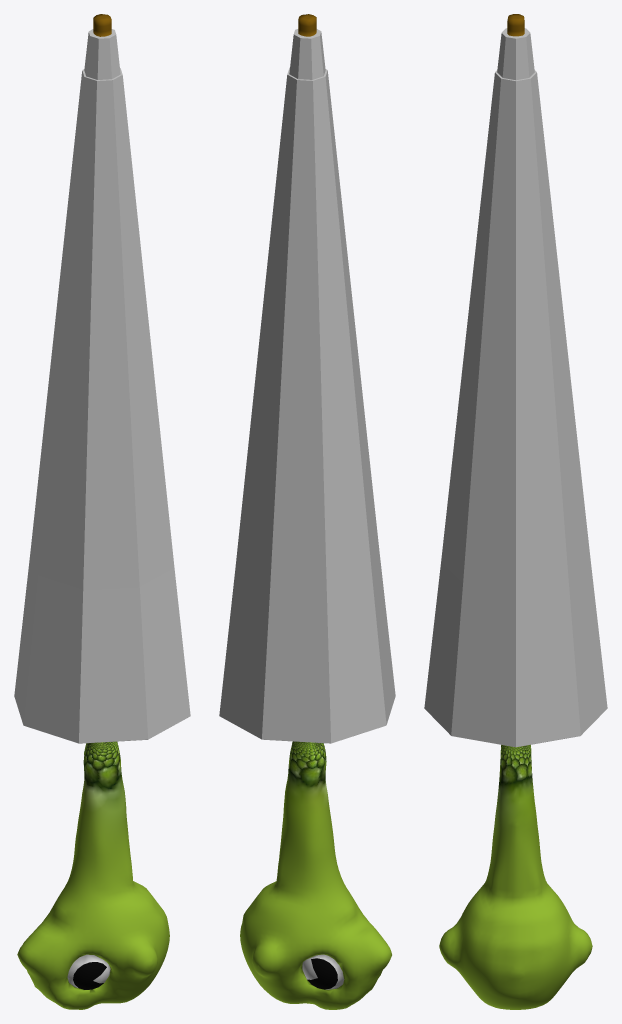
File: paraguas.fbx
3 renders of one model, left to right at view 1: azimuth 30°, elevation 25°; view 2: azimuth 150°, elevation 25°; view 3: azimuth 270°, elevation 25°, orthographic.
Visible parts, largest first — view 1: Paraguas; view 2: Paraguas; view 3: Paraguas.
Part boxes in pixels (x1,y1,x2,y2): Paraguas: (14, 14, 190, 1009); Paraguas: (219, 14, 395, 1009); Paraguas: (424, 14, 607, 1009).
Bounding box in the file's own units: 562 × 3274 × 552.
